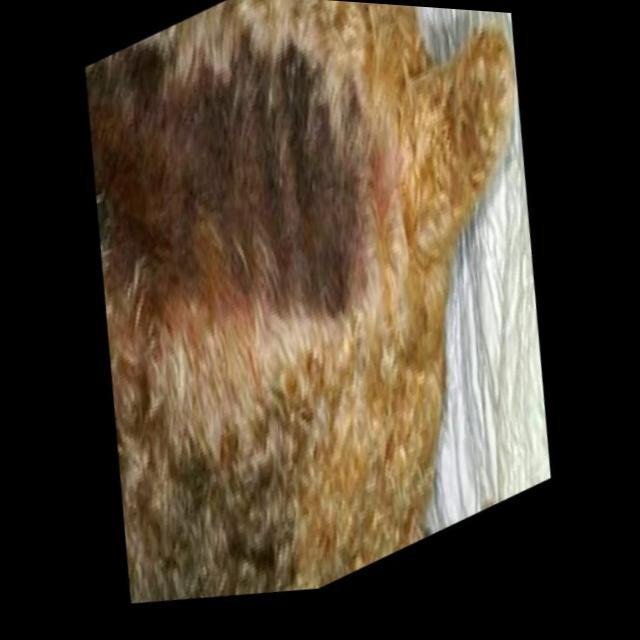allergic dermatitis: (85, 48, 385, 330)
